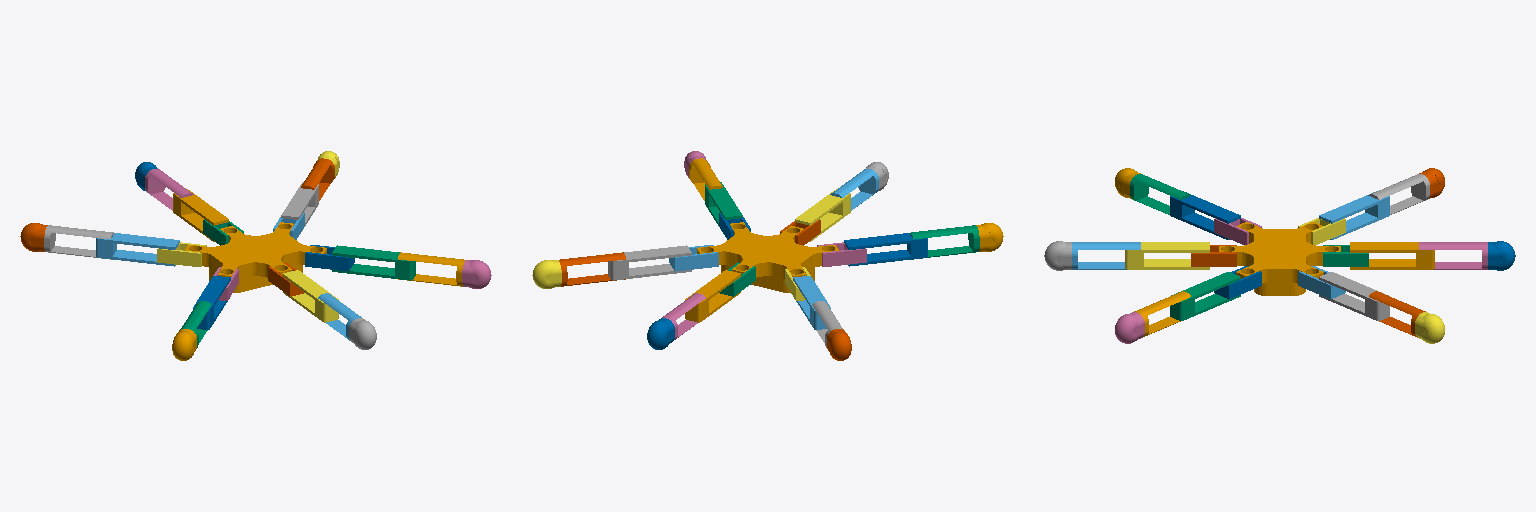
The robot description file, URDF, robot "guaraci":
<?xml version="1.0" encoding="utf-8"?>

<robot name="guaraci">

  <link name="base">
    <visual>
      <!-- <origin rpy="0 0 1.5707" xyz="0 0 0" /> -->
      <origin rpy="1.5707 0 1.5707" xyz="0 0 0" />
      <geometry>
        <mesh filename="../meshes/body100.dae" scale="0.001 0.001 0.001"/>
      </geometry>
    </visual>
    <collision>
      <!-- <origin rpy="0 0 1.5707" xyz="0 0 0" /> -->
      <origin rpy="1.5707 0 1.5707" xyz="0 0 0" />
      <geometry>
        <mesh filename="../meshes/body100.dae" scale="0.001 0.001 0.001"/>
      </geometry>
    </collision>
    <inertial>
      <mass value="9.42278" />
      <origin rpy="0 0 0" xyz="3.073e-05 0.0 2.577e-05" />
      <inertia ixx="0.05235" ixy="0" ixz="0" iyy="0.08538" iyz="0" izx="0" izz="0.1338"/>
    </inertial>
  </link>

  <link name="coxa_r1">
    <inertial>
      <mass value="0.59759" />
      <origin rpy="0 0 0" xyz="0 0 -3.357e-05" />
      <inertia ixx="0.00055" ixy="0" ixz="0" iyy="0.00124" iyz="0" izx="0" izz="0.00155"/>
    </inertial>
    <collision>
      <origin rpy="0 0 3.14159" xyz="0 0 0" />
      <geometry>
        <mesh filename="../meshes/coxa.dae" scale="0.001 0.001 0.001"/>
      </geometry>
    </collision>
    <visual>
      <origin rpy="0 0 3.14159" xyz="0 0 0" />
      <geometry>
        <mesh filename="../meshes/coxa.dae" scale="0.001 0.001 0.001"/>
      </geometry>
    </visual>
  </link>

  <joint name="joint_coxa_r1" type="revolute">
    <parent link="base" />
    <child link="coxa_r1" />
    <origin rpy="3.14159 0 0.7854" xyz="0.17302 0.10517 0" />
    <axis xyz="0 0 1"/>
    <limit effort="25.0" lower="-3.14159" upper="3.14159" velocity="0.5"/>
  </joint>

  <link name="coxa_r2">
    <inertial>
      <mass value="0.59759" />
      <origin rpy="0 0 0" xyz="0 0 -3.357e-05" />
      <inertia ixx="0.00055" ixy="0" ixz="0" iyy="0.00124" iyz="0" izx="0" izz="0.00155"/>
    </inertial>
    <collision>
      <origin rpy="0 0 3.14159" xyz="0 0 0" />
      <geometry>
        <mesh filename="../meshes/coxa.dae" scale="0.001 0.001 0.001"/>
      </geometry>
    </collision>
    <visual>
      <origin rpy="0 0 3.14159" xyz="0 0 0" />
      <geometry>
        <mesh filename="../meshes/coxa.dae" scale="0.001 0.001 0.001"/>
      </geometry>
    </visual>
  </link>

  <joint name="joint_coxa_r2" type="revolute">
    <parent link="base" />
    <child link="coxa_r2" />
    <origin rpy="3.14159 0 1.5707" xyz="0 0.169 0" />
    <axis xyz="0 0 1"/>
    <limit effort="25.0" lower="-3.14159" upper="3.14159" velocity="0.5"/>
  </joint>

  <link name="coxa_r3">
    <inertial>
      <mass value="0.59759" />
      <origin rpy="0 0 0" xyz="0 0 -3.357e-05" />
      <inertia ixx="0.00055" ixy="0" ixz="0" iyy="0.00124" iyz="0" izx="0" izz="0.00155"/>
    </inertial>
    <collision>
      <origin rpy="0 0 3.14159" xyz="0 0 0" />
      <geometry>
        <mesh filename="../meshes/coxa.dae" scale="0.001 0.001 0.001"/>
      </geometry>
    </collision>
    <visual>
      <origin rpy="0 0 3.14159" xyz="0 0 0" />
      <geometry>
        <mesh filename="../meshes/coxa.dae" scale="0.001 0.001 0.001"/>
      </geometry>
    </visual>
  </link>

  <joint name="joint_coxa_r3" type="revolute">
    <parent link="base" />
    <child link="coxa_r3" />
    <origin rpy="3.14159 0 2.3561" xyz="-0.17302 0.10517 0" />
    <axis xyz="0 0 1"/>
    <limit effort="25.0" lower="-3.14159" upper="3.14159" velocity="0.5"/>
  </joint>

  <link name="coxa_l1">
    <inertial>
      <mass value="0.59759" />
      <origin rpy="0 0 0" xyz="0 0 -3.357e-05" />
      <inertia ixx="0.00055" ixy="0" ixz="0" iyy="0.00124" iyz="0" izx="0" izz="0.00155"/>
    </inertial>
    <collision>
      <origin rpy="0 0 3.14159" xyz="0 0 0" />
      <geometry>
        <mesh filename="../meshes/coxa.dae" scale="0.001 0.001 0.001"/>
      </geometry>
    </collision>
    <visual>
      <origin rpy="0 0 3.14159" xyz="0 0 0" />
      <geometry>
        <mesh filename="../meshes/coxa.dae" scale="0.001 0.001 0.001"/>
      </geometry>
    </visual>
  </link>

  <joint name="joint_coxa_l1" type="revolute">
    <parent link="base" />
    <child link="coxa_l1" />
    <origin rpy="3.14159 0 5.4977" xyz="0.17302 -0.10517 0" />
    <axis xyz="0 0 1"/>
    <limit effort="25.0" lower="-3.14159" upper="3.14159" velocity="0.5"/>
  </joint>

  <link name="coxa_l2">
    <inertial>
      <mass value="0.59759" />
      <origin rpy="0 0 0" xyz="0 0 -3.357e-05" />
      <inertia ixx="0.00055" ixy="0" ixz="0" iyy="0.00124" iyz="0" izx="0" izz="0.00155"/>
    </inertial>
    <collision>
      <origin rpy="0 0 3.14159" xyz="0 0 0" />
      <geometry>
        <mesh filename="../meshes/coxa.dae" scale="0.001 0.001 0.001"/>
      </geometry>
    </collision>
    <visual>
      <origin rpy="0 0 3.14159" xyz="0 0 0" />
      <geometry>
        <mesh filename="../meshes/coxa.dae" scale="0.001 0.001 0.001"/>
      </geometry>
    </visual>
  </link>

  <joint name="joint_coxa_l2" type="revolute">
    <parent link="base" />
    <child link="coxa_l2" />
    <origin rpy="3.14159 0 4.71229" xyz="0 -0.169 0" />
    <axis xyz="0 0 1"/>
    <limit effort="25.0" lower="-3.14159" upper="3.14159" velocity="0.5"/>
  </joint>

  <link name="coxa_l3">
    <inertial>
      <mass value="0.59759" />
      <origin rpy="0 0 0" xyz="0 0 -3.357e-05" />
      <inertia ixx="0.00055" ixy="0" ixz="0" iyy="0.00124" iyz="0" izx="0" izz="0.00155"/>
    </inertial>
    <collision>
      <origin rpy="0 0 3.14159" xyz="0 0 0" />
      <geometry>
        <mesh filename="../meshes/coxa.dae" scale="0.001 0.001 0.001"/>
      </geometry>
    </collision>
    <visual>
      <origin rpy="0 0 3.14159" xyz="0 0 0" />
      <geometry>
        <mesh filename="../meshes/coxa.dae" scale="0.001 0.001 0.001"/>
      </geometry>
    </visual>
  </link>

  <joint name="joint_coxa_l3" type="revolute">
    <parent link="base" />
    <child link="coxa_l3" />
    <origin rpy="3.14159 0 3.9269" xyz="-0.17302 -0.10517 0" />
    <axis xyz="0 0 1"/>
    <limit effort="25.0" lower="-3.14159" upper="3.14159" velocity="0.5"/>
  </joint>

  <link name="femur_r1">
    <inertial>
      <mass value="0.92606" />
      <origin rpy="0 0 0" xyz="0 0 0" />
      <inertia ixx="0.00098" ixy="0" ixz="0" iyy="0.00506" iyz="0" izx="0" izz="0.00473"/>
    </inertial>
    <collision>
      <origin rpy="1.5707 0 3.14159" xyz="0 0 0" />
      <geometry>
        <mesh filename="../meshes/femur220.dae" scale="0.001 0.001 0.001"/>
      </geometry>
    </collision>
    <visual>
      <origin rpy="1.5707 0 3.14159" xyz="0 0 0" />
      <geometry>
        <mesh filename="../meshes/femur220.dae" scale="0.001 0.001 0.001"/>
      </geometry>
    </visual>
  </link>

  <joint name="joint_femur_r1" type="revolute">
    <parent link="coxa_r1" />
    <child link="femur_r1" />
    <origin rpy="1.5707 0 0" xyz="0.09041 0 0" />
    <axis xyz="0 0 1"/>
    <limit effort="25.0" lower="-3.14159" upper="3.14159" velocity="0.5"/>
  </joint>

  <link name="femur_r2">
    <inertial>
      <mass value="0.92606" />
      <origin rpy="0 0 0" xyz="0 0 0" />
      <inertia ixx="0.00098" ixy="0" ixz="0" iyy="0.00506" iyz="0" izx="0" izz="0.00473"/>
    </inertial>
    <collision>
      <origin rpy="1.5707 0 3.14159" xyz="0 0 0" />
      <geometry>
        <mesh filename="../meshes/femur220.dae" scale="0.001 0.001 0.001"/>
      </geometry>
    </collision>
    <visual>
      <origin rpy="1.5707 0 3.14159" xyz="0 0 0" />
      <geometry>
        <mesh filename="../meshes/femur220.dae" scale="0.001 0.001 0.001"/>
      </geometry>
    </visual>
  </link>

  <joint name="joint_femur_r2" type="revolute">
    <parent link="coxa_r2" />
    <child link="femur_r2" />
    <origin rpy="1.5707 0 0" xyz="0.09041 0 0" />
    <axis xyz="0 0 1"/>
    <limit effort="25.0" lower="-3.14159" upper="3.14159" velocity="0.5"/>
  </joint>

  <link name="femur_r3">
    <inertial>
      <mass value="0.92606" />
      <origin rpy="0 0 0" xyz="0 0 0" />
      <inertia ixx="0.00098" ixy="0" ixz="0" iyy="0.00506" iyz="0" izx="0" izz="0.00473"/>
    </inertial>
    <collision>
      <origin rpy="1.5707 0 3.14159" xyz="0 0 0" />
      <geometry>
        <mesh filename="../meshes/femur220.dae" scale="0.001 0.001 0.001"/>
      </geometry>
    </collision>
    <visual>
      <origin rpy="1.5707 0 3.14159" xyz="0 0 0" />
      <geometry>
        <mesh filename="../meshes/femur220.dae" scale="0.001 0.001 0.001"/>
      </geometry>
    </visual>
  </link>

  <joint name="joint_femur_r3" type="revolute">
    <parent link="coxa_r3" />
    <child link="femur_r3" />
    <origin rpy="1.5707 0 0" xyz="0.09041 0 0" />
    <axis xyz="0 0 1"/>
    <limit effort="25.0" lower="-3.14159" upper="3.14159" velocity="0.5"/>
  </joint>

  <link name="femur_l1">
    <inertial>
      <mass value="0.92606" />
      <origin rpy="0 0 0" xyz="0 0 0" />
      <inertia ixx="0.00098" ixy="0" ixz="0" iyy="0.00506" iyz="0" izx="0" izz="0.00473"/>
    </inertial>
    <collision>
      <origin rpy="1.5707 0 3.14159" xyz="0 0 0" />
      <geometry>
        <mesh filename="../meshes/femur220.dae" scale="0.001 0.001 0.001"/>
      </geometry>
    </collision>
    <visual>
      <origin rpy="1.5707 0 3.14159" xyz="0 0 0" />
      <geometry>
        <mesh filename="../meshes/femur220.dae" scale="0.001 0.001 0.001"/>
      </geometry>
    </visual>
  </link>

  <joint name="joint_femur_l1" type="revolute">
    <parent link="coxa_l1" />
    <child link="femur_l1" />
    <origin rpy="1.5707 0 0" xyz="0.09041 0 0" />
    <axis xyz="0 0 1"/>
    <limit effort="25.0" lower="-3.14159" upper="3.14159" velocity="0.5"/>
  </joint>

  <link name="femur_l2">
    <inertial>
      <mass value="0.92606" />
      <origin rpy="0 0 0" xyz="0 0 0" />
      <inertia ixx="0.00098" ixy="0" ixz="0" iyy="0.00506" iyz="0" izx="0" izz="0.00473"/>
    </inertial>
    <collision>
      <origin rpy="1.5707 0 3.14159" xyz="0 0 0" />
      <geometry>
        <mesh filename="../meshes/femur220.dae" scale="0.001 0.001 0.001"/>
      </geometry>
    </collision>
    <visual>
      <origin rpy="1.5707 0 3.14159" xyz="0 0 0" />
      <geometry>
        <mesh filename="../meshes/femur220.dae" scale="0.001 0.001 0.001"/>
      </geometry>
    </visual>
  </link>

  <joint name="joint_femur_l2" type="revolute">
    <parent link="coxa_l2" />
    <child link="femur_l2" />
    <origin rpy="1.5707 0 0" xyz="0.09041 0 0" />
    <axis xyz="0 0 1"/>
    <limit effort="25.0" lower="-3.14159" upper="3.14159" velocity="0.5"/>
  </joint>

  <link name="femur_l3">
    <inertial>
      <mass value="0.92606" />
      <origin rpy="0 0 0" xyz="0 0 0" />
      <inertia ixx="0.00098" ixy="0" ixz="0" iyy="0.00506" iyz="0" izx="0" izz="0.00473"/>
    </inertial>
    <collision>
      <origin rpy="1.5707 0 3.14159" xyz="0 0 0" />
      <geometry>
        <mesh filename="../meshes/femur220.dae" scale="0.001 0.001 0.001"/>
      </geometry>
    </collision>
    <visual>
      <origin rpy="1.5707 0 3.14159" xyz="0 0 0" />
      <geometry>
        <mesh filename="../meshes/femur220.dae" scale="0.001 0.001 0.001"/>
      </geometry>
    </visual>
  </link>

  <joint name="joint_femur_l3" type="revolute">
    <parent link="coxa_l3" />
    <child link="femur_l3" />
    <origin rpy="1.5707 0 0" xyz="0.09041 0 0" />
    <axis xyz="0 0 1"/>
    <limit effort="25.0" lower="-3.14159" upper="3.14159" velocity="0.5"/>
  </joint>

  <link name="tibia_r1">
    <inertial>
      <mass value="0.71403" />
      <origin rpy="0 0 0" xyz="0 0 0" />
      <inertia ixx="0.00097" ixy="0" ixz="0" iyy="0.00449" iyz="0" izx="0" izz="0.00383"/>
    </inertial>
    <collision>
      <origin rpy="1.5707 3.14159 0" xyz="0 0 0" />
      <geometry>
        <mesh filename="../meshes/tibia_3.dae" scale="0.001 0.001 0.001"/>
      </geometry>
    </collision>
    <visual>
      <origin rpy="1.5707 3.14159 0" xyz="0 0 0" />
      <geometry>
        <mesh filename="../meshes/tibia_3.dae" scale="0.001 0.001 0.001"/>
      </geometry>
    </visual>
  </link>

  <joint name="joint_tibia_r1" type="revolute">
    <parent link="femur_r1" />
    <child link="tibia_r1" />
    <origin rpy="0 0 0" xyz="0.220 0 0" />
    <axis xyz="0 0 1"/>
    <limit effort="25.0" lower="-3.14159" upper="3.14159" velocity="0.5"/>
  </joint>

  <link name="tibia_r2">
    <inertial>
      <mass value="0.71403" />
      <origin rpy="0 0 0" xyz="0 0 0" />
      <inertia ixx="0.00097" ixy="0" ixz="0" iyy="0.00449" iyz="0" izx="0" izz="0.00383"/>
    </inertial>
    <collision>
      <origin rpy="1.5707 3.14159 0" xyz="0 0 0" />
      <geometry>
        <mesh filename="../meshes/tibia_3.dae" scale="0.001 0.001 0.001"/>
      </geometry>
    </collision>
    <visual>
      <origin rpy="1.5707 3.14159 0" xyz="0 0 0" />
      <geometry>
        <mesh filename="../meshes/tibia_3.dae" scale="0.001 0.001 0.001"/>
      </geometry>
    </visual>
  </link>

  <joint name="joint_tibia_r2" type="revolute">
    <parent link="femur_r2" />
    <child link="tibia_r2" />
    <origin rpy="0 0 0" xyz="0.220 0 0" />
    <axis xyz="0 0 1"/>
    <limit effort="25.0" lower="-3.14159" upper="3.14159" velocity="0.5"/>
  </joint>

  <link name="tibia_r3">
    <inertial>
      <mass value="0.71403" />
      <origin rpy="0 0 0" xyz="0 0 0" />
      <inertia ixx="0.00097" ixy="0" ixz="0" iyy="0.00449" iyz="0" izx="0" izz="0.00383"/>
    </inertial>
    <collision>
      <origin rpy="1.5707 3.14159 0" xyz="0 0 0" />
      <geometry>
        <mesh filename="../meshes/tibia_3.dae" scale="0.001 0.001 0.001"/>
      </geometry>
    </collision>
    <visual>
      <origin rpy="1.5707 3.14159 0" xyz="0 0 0" />
      <geometry>
        <mesh filename="../meshes/tibia_3.dae" scale="0.001 0.001 0.001"/>
      </geometry>
    </visual>
  </link>

  <joint name="joint_tibia_r3" type="revolute">
    <parent link="femur_r3" />
    <child link="tibia_r3" />
    <origin rpy="0 0 0" xyz="0.220 0 0" />
    <axis xyz="0 0 1"/>
    <limit effort="25.0" lower="-3.14159" upper="3.14159" velocity="0.5"/>
  </joint>

  <link name="tibia_l1">
    <inertial>
      <mass value="0.71403" />
      <origin rpy="0 0 0" xyz="0 0 0" />
      <inertia ixx="0.00097" ixy="0" ixz="0" iyy="0.00449" iyz="0" izx="0" izz="0.00383"/>
    </inertial>
    <collision>
      <origin rpy="1.5707 3.14159 0" xyz="0 0 0" />
      <geometry>
        <mesh filename="../meshes/tibia_3.dae" scale="0.001 0.001 0.001"/>
      </geometry>
    </collision>
    <visual>
      <origin rpy="1.5707 3.14159 0" xyz="0 0 0" />
      <geometry>
        <mesh filename="../meshes/tibia_3.dae" scale="0.001 0.001 0.001"/>
      </geometry>
    </visual>
  </link>

  <joint name="joint_tibia_l1" type="revolute">
    <parent link="femur_l1" />
    <child link="tibia_l1" />
    <origin rpy="0 0 0" xyz="0.220 0 0" />
    <axis xyz="0 0 1"/>
    <limit effort="25.0" lower="-3.14159" upper="3.14159" velocity="0.5"/>
  </joint>

  <link name="tibia_l2">
    <inertial>
      <mass value="0.71403" />
      <origin rpy="0 0 0" xyz="0 0 0" />
      <inertia ixx="0.00097" ixy="0" ixz="0" iyy="0.00449" iyz="0" izx="0" izz="0.00383"/>
    </inertial>
    <collision>
      <origin rpy="1.5707 3.14159 0" xyz="0 0 0" />
      <geometry>
        <mesh filename="../meshes/tibia_3.dae" scale="0.001 0.001 0.001"/>
      </geometry>
    </collision>
    <visual>
      <origin rpy="1.5707 3.14159 0" xyz="0 0 0" />
      <geometry>
        <mesh filename="../meshes/tibia_3.dae" scale="0.001 0.001 0.001"/>
      </geometry>
    </visual>
  </link>

  <joint name="joint_tibia_l2" type="revolute">
    <parent link="femur_l2" />
    <child link="tibia_l2" />
    <origin rpy="0 0 0" xyz="0.220 0 0" />
    <axis xyz="0 0 1"/>
    <limit effort="25.0" lower="-3.14159" upper="3.14159" velocity="0.5"/>
  </joint>

  <link name="tibia_l3">
    <inertial>
      <mass value="0.71403" />
      <origin rpy="0 0 0" xyz="0 0 0" />
      <inertia ixx="0.00097" ixy="0" ixz="0" iyy="0.00449" iyz="0" izx="0" izz="0.00383"/>
    </inertial>
    <collision>
      <origin rpy="1.5707 3.14159 0" xyz="0 0 0" />
      <geometry>
        <mesh filename="../meshes/tibia_3.dae" scale="0.001 0.001 0.001"/>
      </geometry>
    </collision>
    <visual>
      <origin rpy="1.5707 3.14159 0" xyz="0 0 0" />
      <geometry>
        <mesh filename="../meshes/tibia_3.dae" scale="0.001 0.001 0.001"/>
      </geometry>
    </visual>
  </link>

  <joint name="joint_tibia_l3" type="revolute">
    <parent link="femur_l3" />
    <child link="tibia_l3" />
    <origin rpy="0 0 0" xyz="0.220 0 0" />
    <axis xyz="0 0 1"/>
    <limit effort="25.0" lower="-3.14159" upper="3.14159" velocity="0.5"/>
  </joint>

  <link name="foot_r1">
    <inertial>
      <mass value="1.15784" />
      <origin rpy="0 0 0" xyz="0 0 0" />
      <inertia ixx="0.001" ixy="0" ixz="0" iyy="0.00124" iyz="0" izx="0" izz="0.00096"/>
    </inertial>
    <collision>
      <origin rpy="0 3.14159 0" xyz="0 0 0" />
      <geometry>
        <mesh filename="../meshes/foot.dae" scale="0.001 0.001 0.001"/>
      </geometry>
    </collision>
    <visual>
      <origin rpy="0 3.14159 0" xyz="0 0 0" />
      <geometry>
        <mesh filename="../meshes/foot.dae" scale="0.001 0.001 0.001"/>
      </geometry>
    </visual>
  </link>

  <joint name="joint_foot_r1" type="fixed">
    <parent link="tibia_r1" />
    <child link="foot_r1" />
    <origin rpy="1.5707 0 0" xyz="0.19859 0 0" />
      <!-- <axis xyz="0 0 1"/>
      <limit effort="25.0" lower="-3.14159" upper="3.14159" velocity="0.5"/> -->
    </joint>

    <link name="foot_r2">
      <inertial>
        <mass value="1.15784" />
        <origin rpy="0 0 0" xyz="0 0 0" />
        <inertia ixx="0.001" ixy="0" ixz="0" iyy="0.00124" iyz="0" izx="0" izz="0.00096"/>
      </inertial>
      <collision>
        <origin rpy="0 3.14159 0" xyz="0 0 0" />
        <geometry>
          <mesh filename="../meshes/foot.dae" scale="0.001 0.001 0.001"/>
        </geometry>
      </collision>
      <visual>
        <origin rpy="0 3.14159 0" xyz="0 0 0" />
        <geometry>
          <mesh filename="../meshes/foot.dae" scale="0.001 0.001 0.001"/>
        </geometry>
      </visual>
    </link>

    <joint name="joint_foot_r2" type="fixed">
      <parent link="tibia_r2" />
      <child link="foot_r2" />
      <origin rpy="1.5707 0 0" xyz="0.19859 0 0" />
        <!-- <axis xyz="0 0 1"/>
        <limit effort="25.0" lower="-3.14159" upper="3.14159" velocity="0.5"/> -->
      </joint>

      <link name="foot_r3">
        <inertial>
          <mass value="1.15784" />
          <origin rpy="0 0 0" xyz="0 0 0" />
          <inertia ixx="0.001" ixy="0" ixz="0" iyy="0.00124" iyz="0" izx="0" izz="0.00096"/>
        </inertial>
        <collision>
          <origin rpy="0 3.14159 0" xyz="0 0 0" />
          <geometry>
            <mesh filename="../meshes/foot.dae" scale="0.001 0.001 0.001"/>
          </geometry>
        </collision>
        <visual>
          <origin rpy="0 3.14159 0" xyz="0 0 0" />
          <geometry>
            <mesh filename="../meshes/foot.dae" scale="0.001 0.001 0.001"/>
          </geometry>
        </visual>
      </link>

      <joint name="joint_foot_r3" type="fixed">
        <parent link="tibia_r3" />
        <child link="foot_r3" />
        <origin rpy="1.5707 0 0" xyz="0.19859 0 0" />
          <!-- <axis xyz="0 0 1"/>
          <limit effort="25.0" lower="-3.14159" upper="3.14159" velocity="0.5"/> -->
        </joint>

        <link name="foot_l1">
          <inertial>
            <mass value="1.15784" />
            <origin rpy="0 0 0" xyz="0 0 0" />
            <inertia ixx="0.001" ixy="0" ixz="0" iyy="0.00124" iyz="0" izx="0" izz="0.00096"/>
          </inertial>
          <collision>
            <origin rpy="0 3.14159 0" xyz="0 0 0" />
            <geometry>
              <mesh filename="../meshes/foot.dae" scale="0.001 0.001 0.001"/>
            </geometry>
          </collision>
          <visual>
            <origin rpy="0 3.14159 0" xyz="0 0 0" />
            <geometry>
              <mesh filename="../meshes/foot.dae" scale="0.001 0.001 0.001"/>
            </geometry>
          </visual>
        </link>

        <joint name="joint_foot_l1" type="fixed">
          <parent link="tibia_l1" />
          <child link="foot_l1" />
          <origin rpy="1.5707 0 0" xyz="0.19859 0 0" />
            <!-- <axis xyz="0 0 1"/>
            <limit effort="25.0" lower="-3.14159" upper="3.14159" velocity="0.5"/> -->
          </joint>

          <link name="foot_l2">
            <inertial>
              <mass value="1.15784" />
              <origin rpy="0 0 0" xyz="0 0 0" />
              <inertia ixx="0.001" ixy="0" ixz="0" iyy="0.00124" iyz="0" izx="0" izz="0.00096"/>
            </inertial>
            <collision>
              <origin rpy="0 3.14159 0" xyz="0 0 0" />
              <geometry>
                <mesh filename="../meshes/foot.dae" scale="0.001 0.001 0.001"/>
              </geometry>
            </collision>
            <visual>
              <origin rpy="0 3.14159 0" xyz="0 0 0" />
              <geometry>
                <mesh filename="../meshes/foot.dae" scale="0.001 0.001 0.001"/>
              </geometry>
            </visual>
          </link>

          <joint name="joint_foot_l2" type="fixed">
            <parent link="tibia_l2" />
            <child link="foot_l2" />
            <origin rpy="1.5707 0 0" xyz="0.19859 0 0" />
              <!-- <axis xyz="0 0 1"/>
              <limit effort="25.0" lower="-3.14159" upper="3.14159" velocity="0.5"/> -->
            </joint>

            <link name="foot_l3">
              <inertial>
                <mass value="1.15784" />
                <origin rpy="0 0 0" xyz="0 0 0" />
                <inertia ixx="0.001" ixy="0" ixz="0" iyy="0.00124" iyz="0" izx="0" izz="0.00096"/>
              </inertial>
              <collision>
                <origin rpy="0 3.14159 0" xyz="0 0 0" />
                <geometry>
                  <mesh filename="../meshes/foot.dae" scale="0.001 0.001 0.001"/>
                </geometry>
              </collision>
              <visual>
                <origin rpy="0 3.14159 0" xyz="0 0 0" />
                <geometry>
                  <mesh filename="../meshes/foot.dae" scale="0.001 0.001 0.001"/>
                </geometry>
              </visual>
            </link>

            <joint name="joint_foot_l3" type="fixed">
              <parent link="tibia_l3" />
              <child link="foot_l3" />
              <origin rpy="1.5707 0 0" xyz="0.19859 0 0" />
                <!-- <axis xyz="0 0 1"/>
                <limit effort="25.0" lower="-3.14159" upper="3.14159" velocity="0.5"/> -->
              </joint>

            </robot>

--- Render facts (derived) ---
The picture shows the robot from 3 angles, left to right: view 1: azimuth 30°, elevation 25°; view 2: azimuth 150°, elevation 25°; view 3: azimuth 270°, elevation 25°; orthographic projection.
Robot: guaraci — 25 links, 24 joints (18 revolute, 6 fixed); root link base; default pose: all joints at 0.
Links seen in each view (by area): view 1: base, femur_l1, femur_r3, femur_l2, femur_r2, tibia_r3, tibia_r2, tibia_l1, femur_l3, femur_r1, coxa_l1, tibia_r1 (+7 smaller); view 2: base, femur_r1, femur_l3, femur_r2, femur_l2, tibia_l3, tibia_l2, tibia_r1, femur_r3, femur_l1, coxa_r1, tibia_l1 (+7 smaller); view 3: base, femur_r2, femur_l2, femur_l1, femur_r1, femur_r3, femur_l3, tibia_r3, tibia_l3, tibia_r2, tibia_l2, tibia_r1 (+11 smaller).
Boxes of the visible links, x1,y1,x2,y2 form: base: [185, 222, 326, 292]; femur_l1: [332, 245, 415, 280]; femur_r3: [96, 233, 179, 266]; femur_l2: [283, 270, 338, 322]; femur_r2: [173, 189, 228, 241]; tibia_r3: [44, 225, 113, 259]; tibia_r2: [145, 169, 193, 210]; tibia_l1: [398, 252, 464, 286]; femur_l3: [193, 276, 230, 329]; femur_r1: [281, 182, 318, 233]; coxa_l1: [305, 245, 354, 271]; tibia_r1: [301, 158, 334, 200]; base: [697, 222, 838, 292]; femur_r1: [608, 245, 691, 280]; femur_l3: [844, 233, 927, 266]; femur_r2: [685, 270, 740, 322]; femur_l2: [795, 189, 850, 241]; tibia_l3: [910, 225, 979, 259]; tibia_l2: [830, 169, 878, 210]; tibia_r1: [559, 252, 625, 286]; femur_r3: [793, 276, 830, 329]; femur_l1: [705, 182, 742, 233]; coxa_r1: [669, 245, 718, 271]; tibia_l1: [689, 158, 722, 200]; base: [1219, 222, 1340, 295]; femur_r2: [1350, 242, 1434, 269]; femur_l2: [1125, 242, 1209, 269]; femur_l1: [1170, 272, 1240, 320]; femur_r1: [1319, 272, 1389, 320]; femur_r3: [1319, 191, 1389, 239]; femur_l3: [1170, 191, 1240, 239]; tibia_r3: [1368, 174, 1429, 214]; tibia_l3: [1130, 174, 1191, 214]; tibia_r2: [1419, 242, 1487, 269]; tibia_l2: [1072, 242, 1140, 269]; tibia_r1: [1369, 291, 1425, 337].
Size in the robot's own frame: 1.21 by 1.54 by 0.125 metres.
25 mesh visuals loaded from 5 distinct referenced files (5 Collada DAE).
